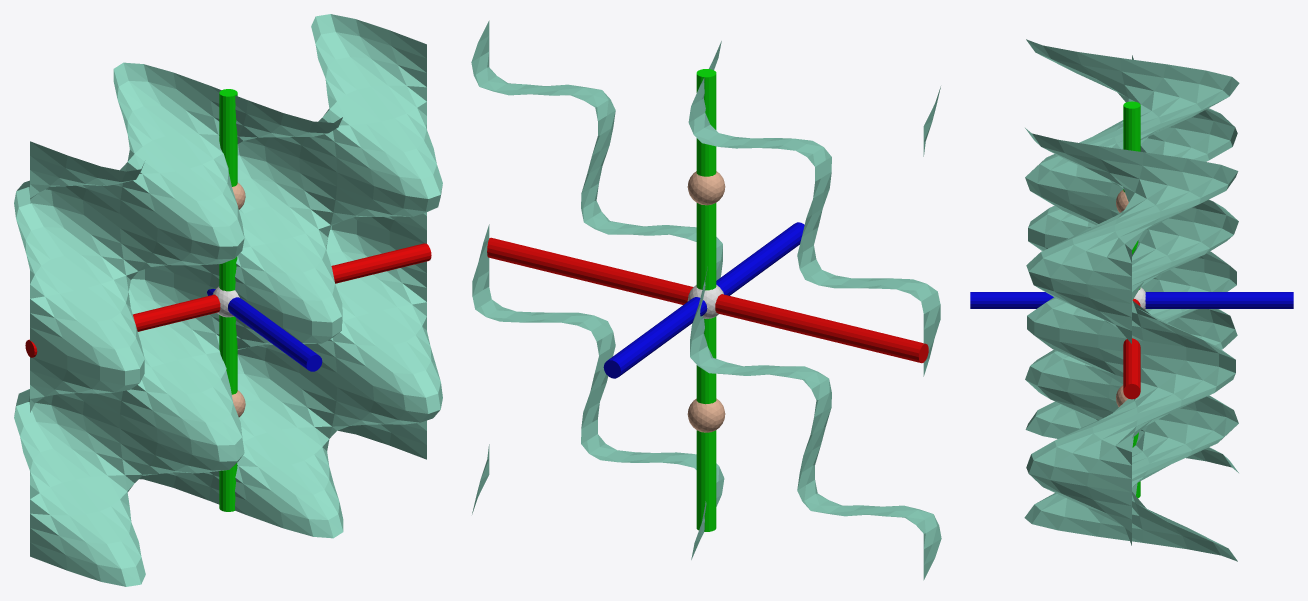
File: trigonometric_surfaces.glb
3 renders of one model, left to right at view 1: azimuth 30°, elevation 25°; view 2: azimuth 150°, elevation 25°; view 3: azimuth 270°, elevation 25°, orthographic. The views are drawn at different scales.
Visible parts, largest first — view 1: world; view 2: world; view 3: world.
Boxes of the visible parts, <box> form: world: <box>14,14,442,586</box>; world: <box>471,20,941,580</box>; world: <box>970,39,1293,561</box>.
Bounding box in the file's own units: 4 × 4 × 3.
